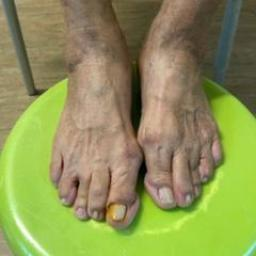Dorsal View -Both Feet-: (29, 4, 252, 246)
